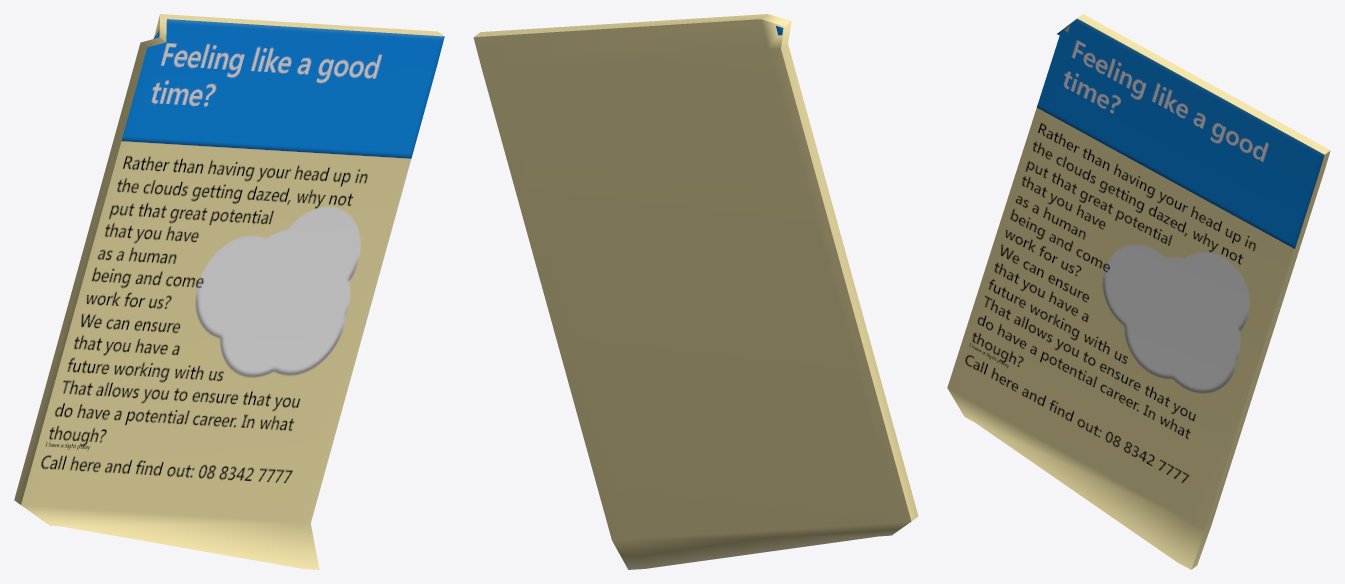
The model's file is OtherPaper.fbx.
The picture shows the model from 3 angles, left to right: view 1: azimuth 30°, elevation 25°; view 2: azimuth 150°, elevation 25°; view 3: azimuth 330°, elevation 25°; orthographic projection. The views are drawn at different scales.
Parts seen in each view (by area): view 1: pCube19; view 2: pCube19; view 3: pCube19.
Part boxes in pixels (<box>): pCube19: <box>14,14,444,569</box>; pCube19: <box>473,14,918,569</box>; pCube19: <box>947,14,1330,569</box>.
Size of the model in its own units: 24.54 by 31.88 by 1.92.
